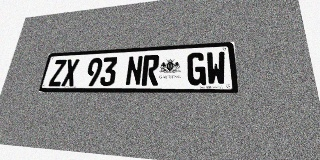3: (99, 57, 118, 86)
9: (85, 57, 103, 86)
G: (187, 52, 206, 85)
N: (125, 55, 143, 86)
R: (141, 55, 160, 86)
W: (206, 51, 227, 85)
X: (61, 59, 80, 86)
Z: (48, 59, 67, 86)
